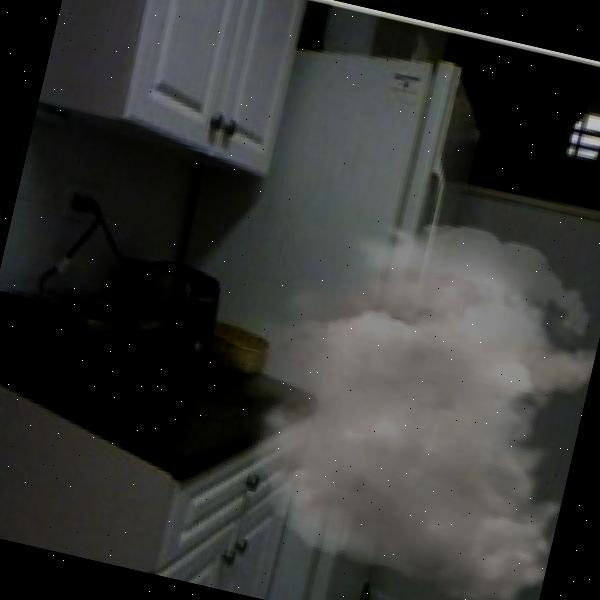smoke: (174, 175, 600, 600)
